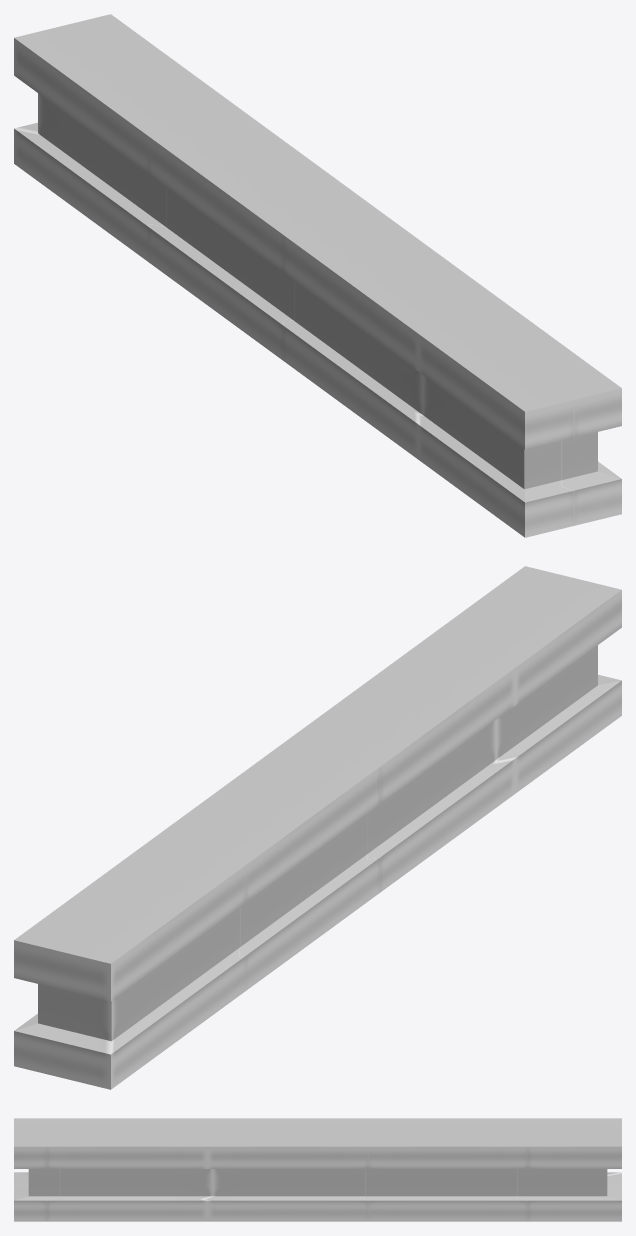
The model's file is Banister_b.fbx.
3 views of the same model, one above another, from view 1: azimuth 30°, elevation 25°; view 2: azimuth 150°, elevation 25°; view 3: azimuth 270°, elevation 25° (orthographic). The views are drawn at different scales.
Parts seen in each view (by area): view 1: pCube30; view 2: pCube30; view 3: pCube30.
Boxes of the visible parts, x1=… form: pCube30: x1=14, y1=14, x2=621, y2=537; pCube30: x1=14, y1=566, x2=621, y2=1089; pCube30: x1=14, y1=1118, x2=621, y2=1221.
Bounding box in the file's own units: 1 × 1.24 × 9.14.
